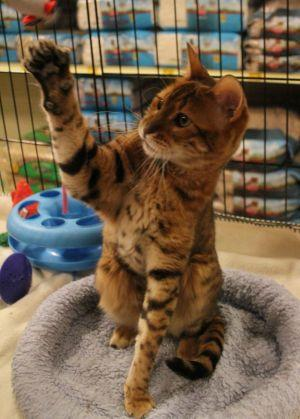bengal: (120, 35, 258, 193)
